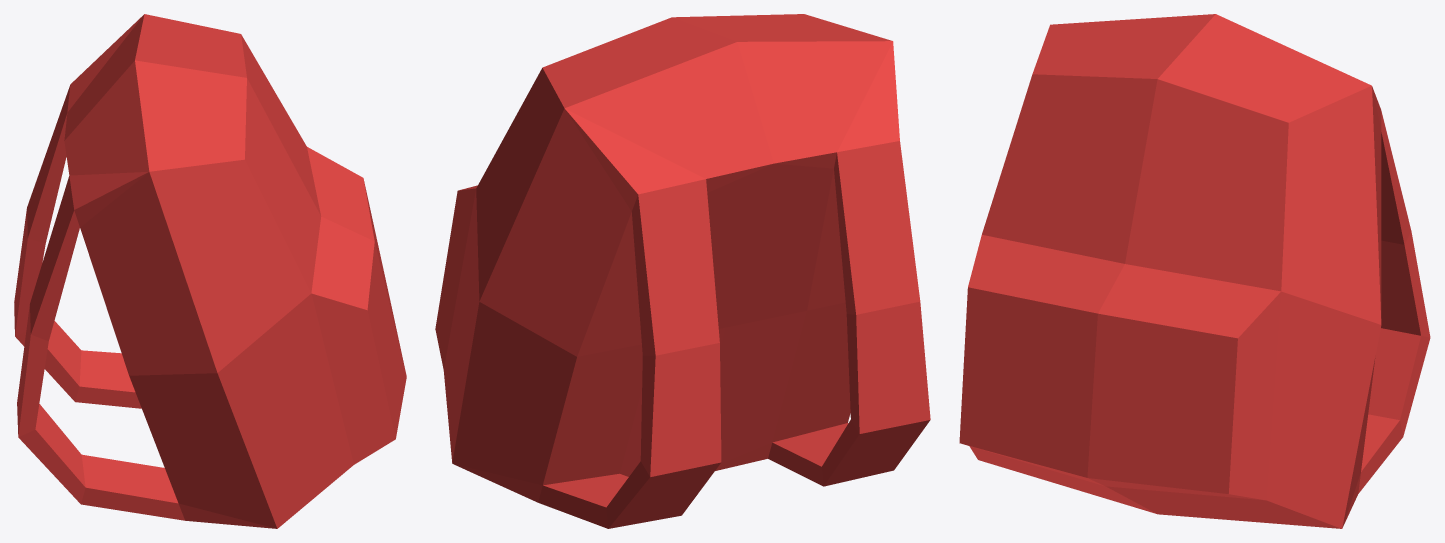
Rendered from Mochila.fbx.
3 renders of one model, left to right at view 1: azimuth 30°, elevation 25°; view 2: azimuth 150°, elevation 25°; view 3: azimuth 270°, elevation 25°, orthographic. The views are drawn at different scales.
Visible parts, largest first — view 1: Cubo.013; view 2: Cubo.013; view 3: Cubo.013.
Part boxes in pixels (box(x1,y1,x2,y2)): Cubo.013: box(14, 14, 406, 528); Cubo.013: box(435, 14, 930, 528); Cubo.013: box(959, 14, 1430, 528).
Size of the model in its own units: 187 by 177 by 173.
